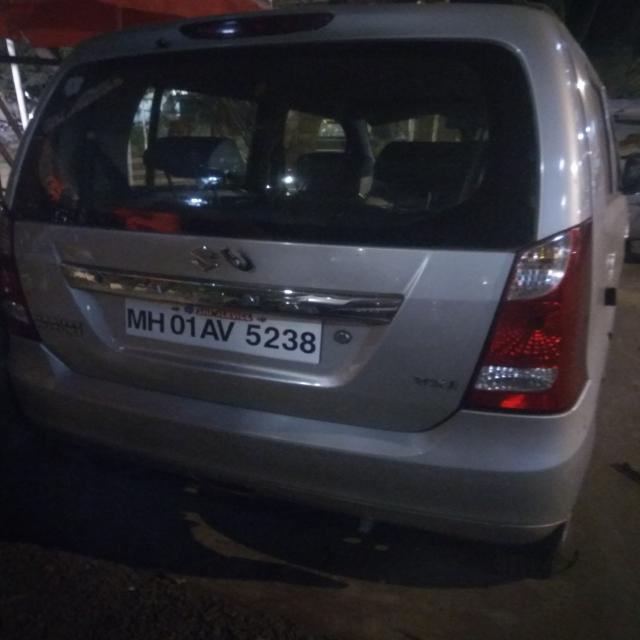Number-Plate: (122, 298, 327, 354)
